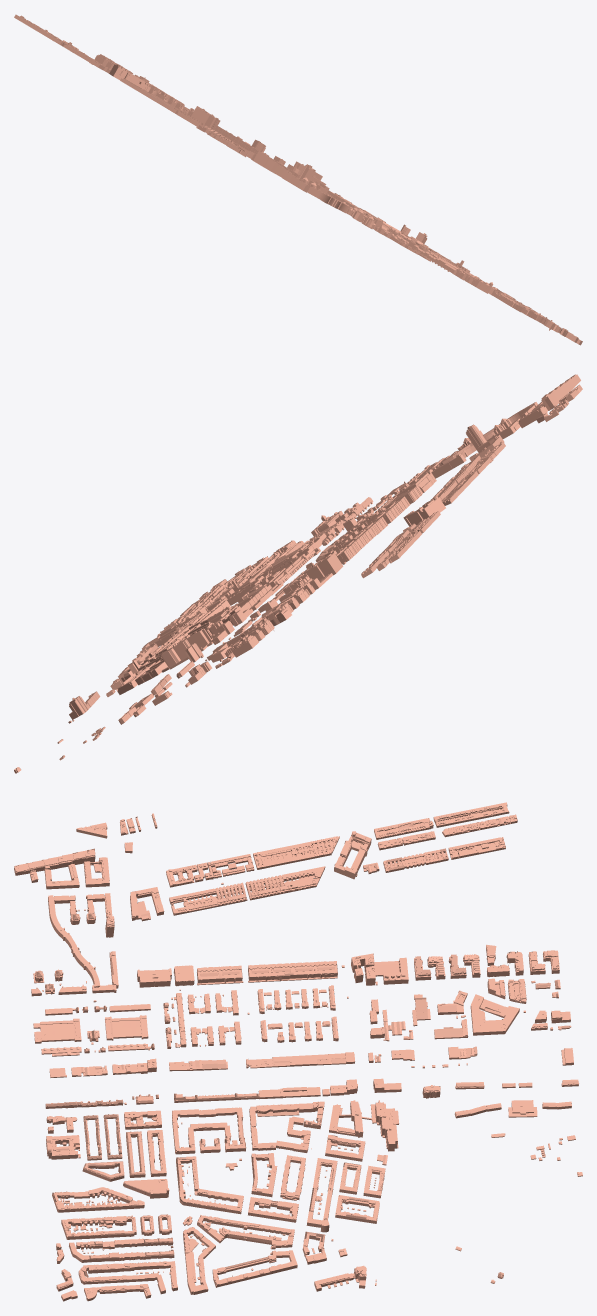
3 renders of one model, top to bottom at view 1: azimuth 30°, elevation 25°; view 2: azimuth 150°, elevation 25°; view 3: azimuth 270°, elevation 25°, orthographic. The views are drawn at different scales.
Size of the model in its own units: 3.48e+07 by 2.48e+07 by 4.21e+07.
